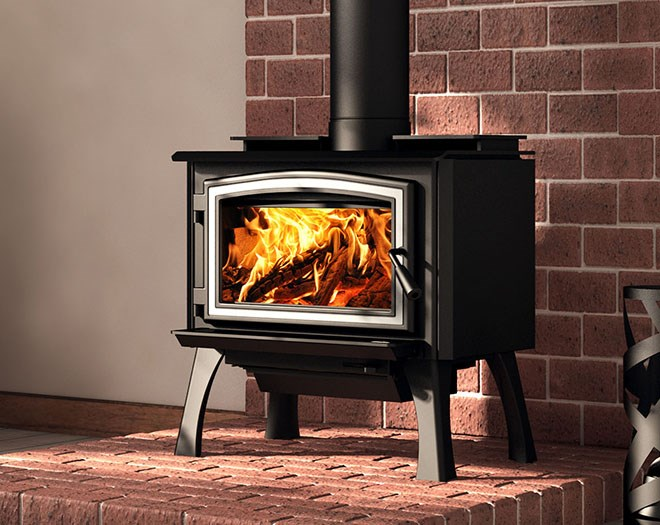stove: (171, 6, 528, 457)
